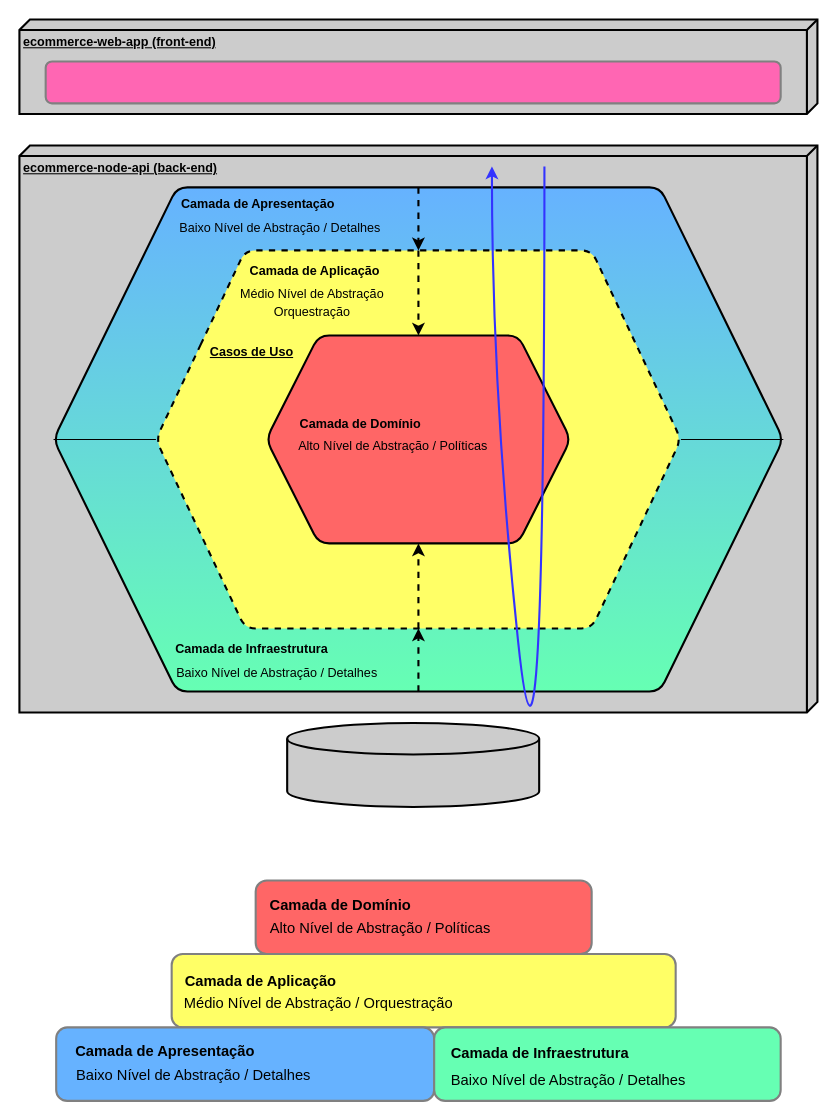
This 836x1119 diagram has some shape labels left out. Here are the shapes that lost their labels. From the top down, the centre of each, then its label:
the point at 412,82: Interface de Usuário
the point at 413,764: Database (Relacional)
